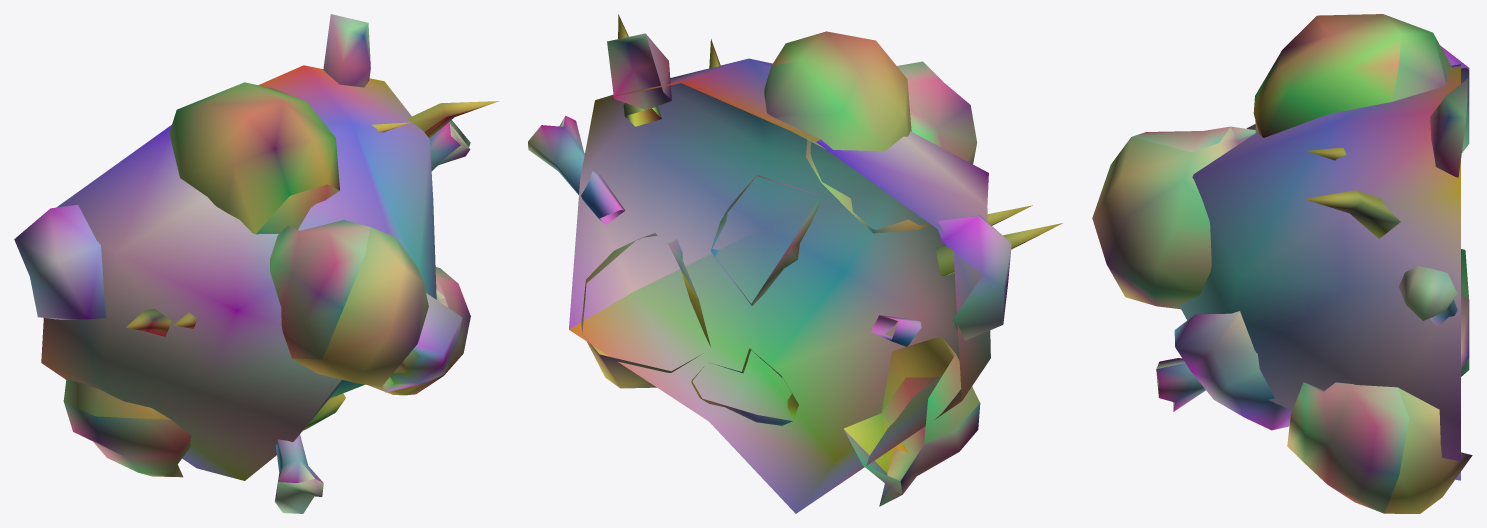
The model's file is Skeleton_A.glb.
The picture shows the model from 3 angles, left to right: view 1: azimuth 30°, elevation 25°; view 2: azimuth 150°, elevation 25°; view 3: azimuth 270°, elevation 25°; orthographic projection. The views are drawn at different scales.
Visible parts, largest first — view 1: MeshNode_0; view 2: MeshNode_0; view 3: MeshNode_0.
Part boxes in pixels (x1,y1,x2,y2): MeshNode_0: (14,14,499,513); MeshNode_0: (528,14,1062,513); MeshNode_0: (1092,14,1472,513).
Bounding box in the file's own units: 2.22 × 2.01 × 1.44.
